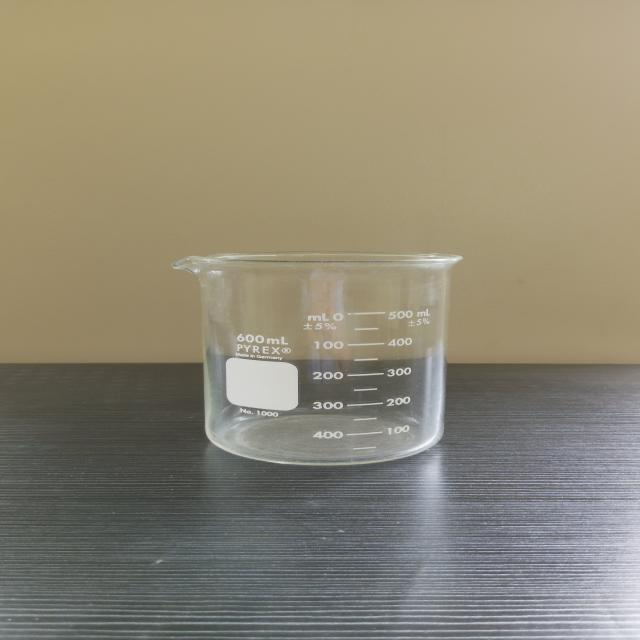beaker: (160, 244, 474, 470)
